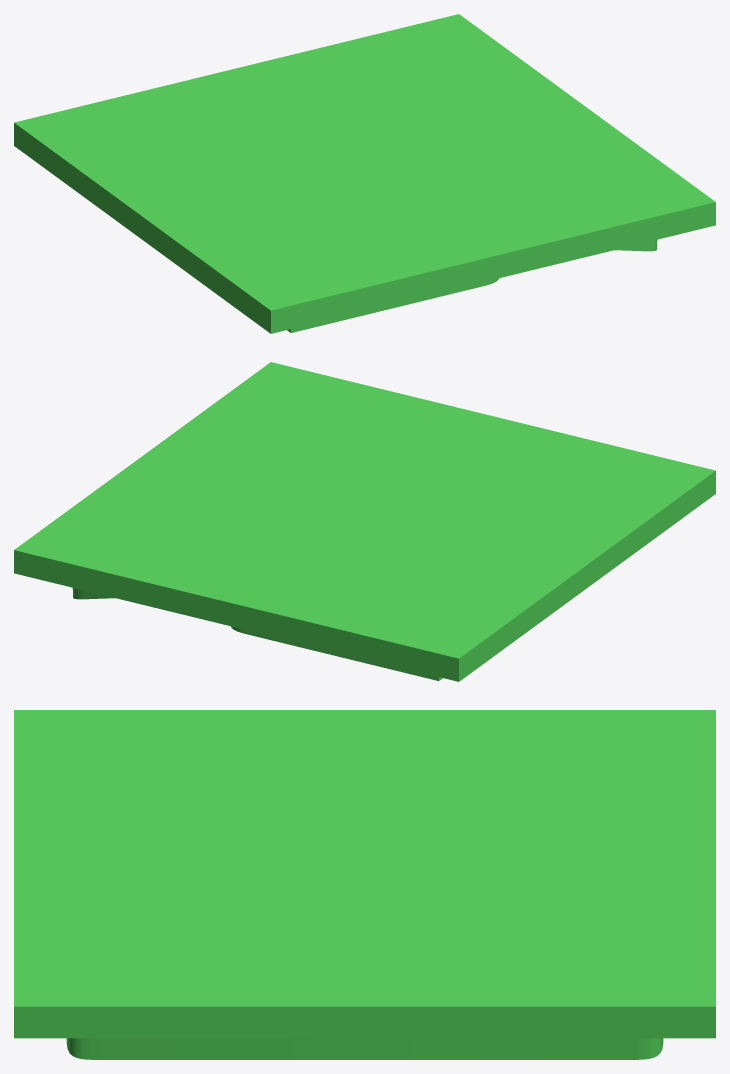
Rendered from Rooms_Ceiling_Line_A.FBX.
The picture shows the model from 3 angles, top to bottom: view 1: azimuth 30°, elevation 25°; view 2: azimuth 150°, elevation 25°; view 3: azimuth 270°, elevation 25°; orthographic projection. The views are drawn at different scales.
Parts seen in each view (by area): view 1: Rooms_Ceiling_Line_A; view 2: Rooms_Ceiling_Line_A; view 3: Rooms_Ceiling_Line_A.
Boxes of the visible parts, x1,y1,x2,y2 form: Rooms_Ceiling_Line_A: [14, 14, 715, 333]; Rooms_Ceiling_Line_A: [14, 362, 715, 681]; Rooms_Ceiling_Line_A: [14, 710, 715, 1059].
Size of the model in its own units: 400 by 47.8 by 400.
